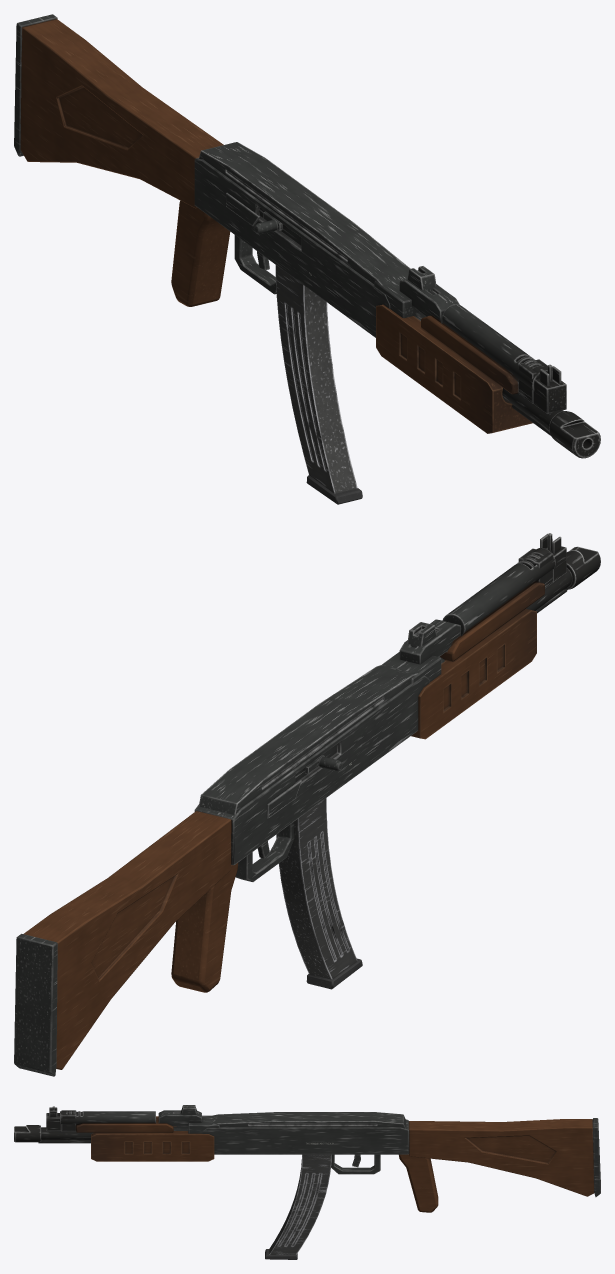
Rendered from ak_rifle.glb.
The picture shows the model from 3 angles, top to bottom: view 1: azimuth 30°, elevation 25°; view 2: azimuth 150°, elevation 25°; view 3: azimuth 270°, elevation 25°; orthographic projection. The views are drawn at different scales.
Parts seen in each view (by area): view 1: body, magazine, rear_sight; view 2: body, magazine, rear_sight; view 3: body, magazine, rear_sight.
Part boxes in pixels (box(x1,y1,x2,y2)): body: box(14, 14, 600, 458); magazine: box(275, 265, 362, 504); rear_sight: box(399, 266, 459, 324); body: box(14, 533, 600, 1076); magazine: box(276, 798, 362, 989); rear_sight: box(399, 619, 460, 664); body: box(14, 1106, 600, 1212); magazine: box(265, 1154, 331, 1259); rear_sight: box(158, 1105, 201, 1126).
Size of the model in its own units: 0.058 by 0.245 by 0.868.
Materials: 1 (1 with a texture image).
